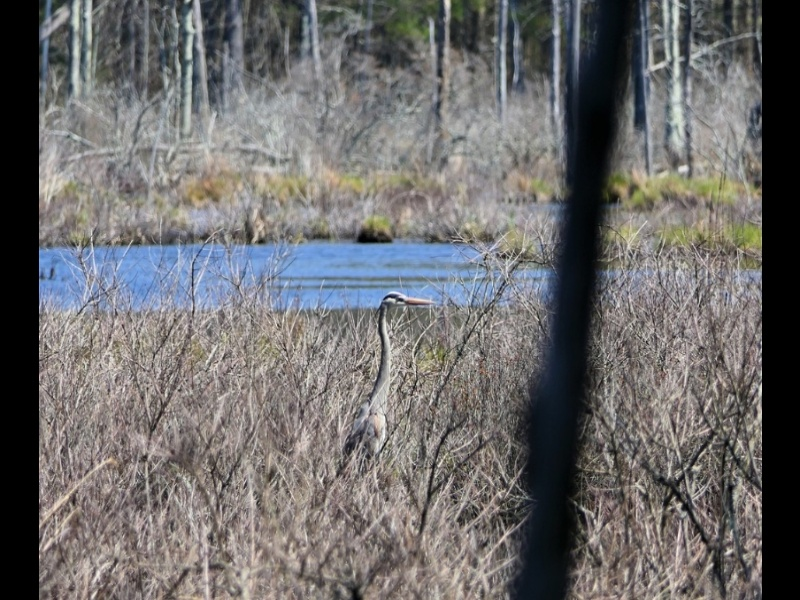heron: (336, 290, 433, 472)
